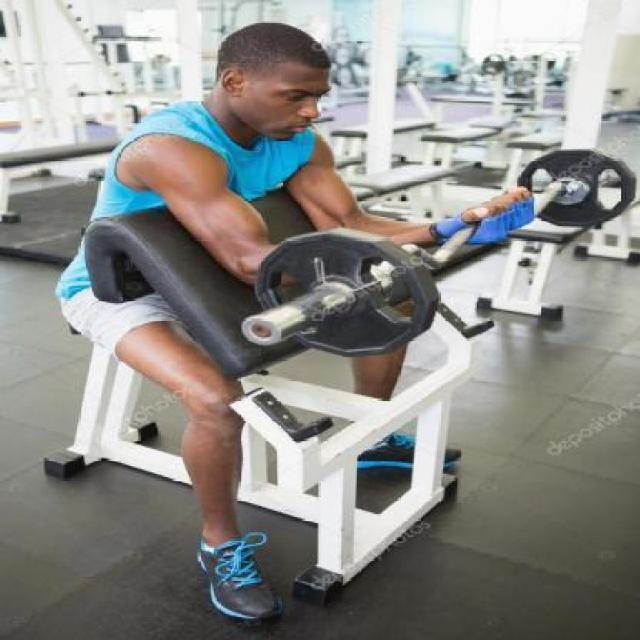barbell: (231, 228, 433, 364)
